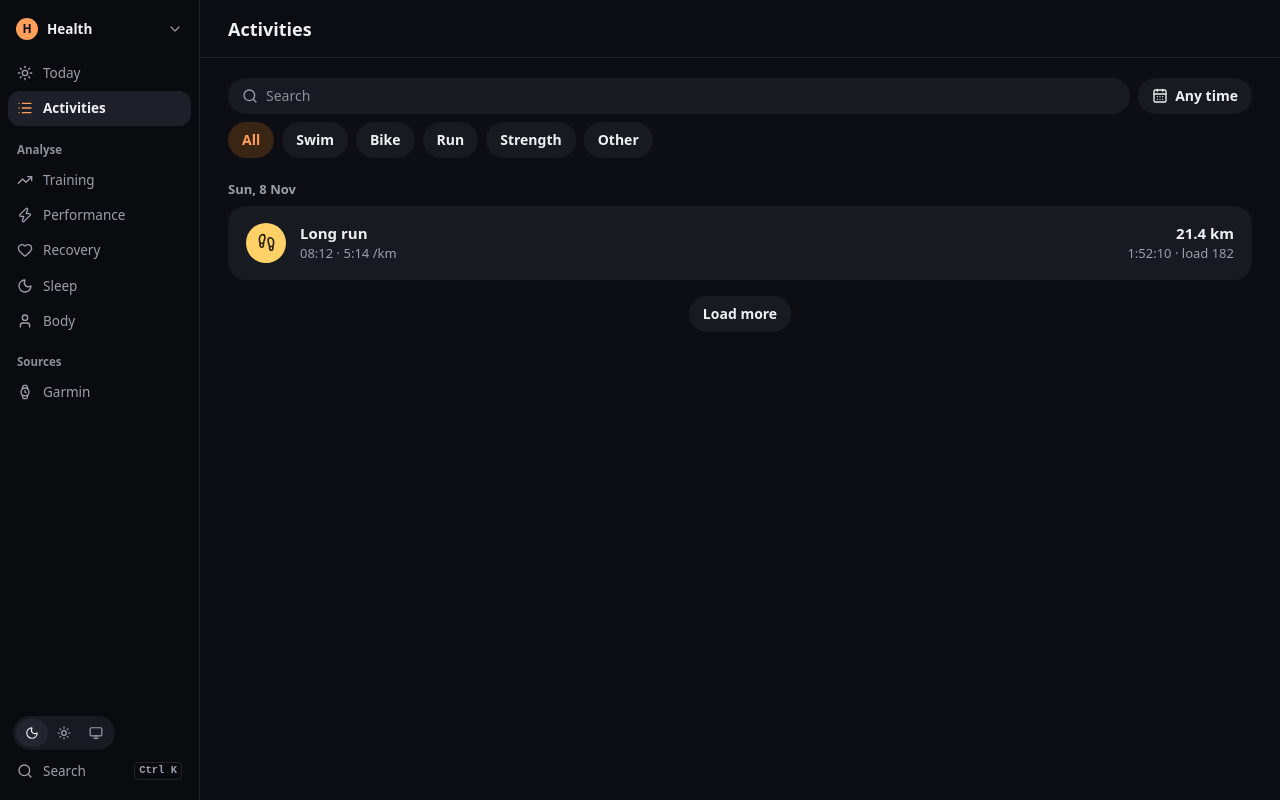
Test case: loads the next page with the cursor
The image size is (1280, 800).
Click the button "Load more".
click(740, 314)  # box [689,296,791,332]
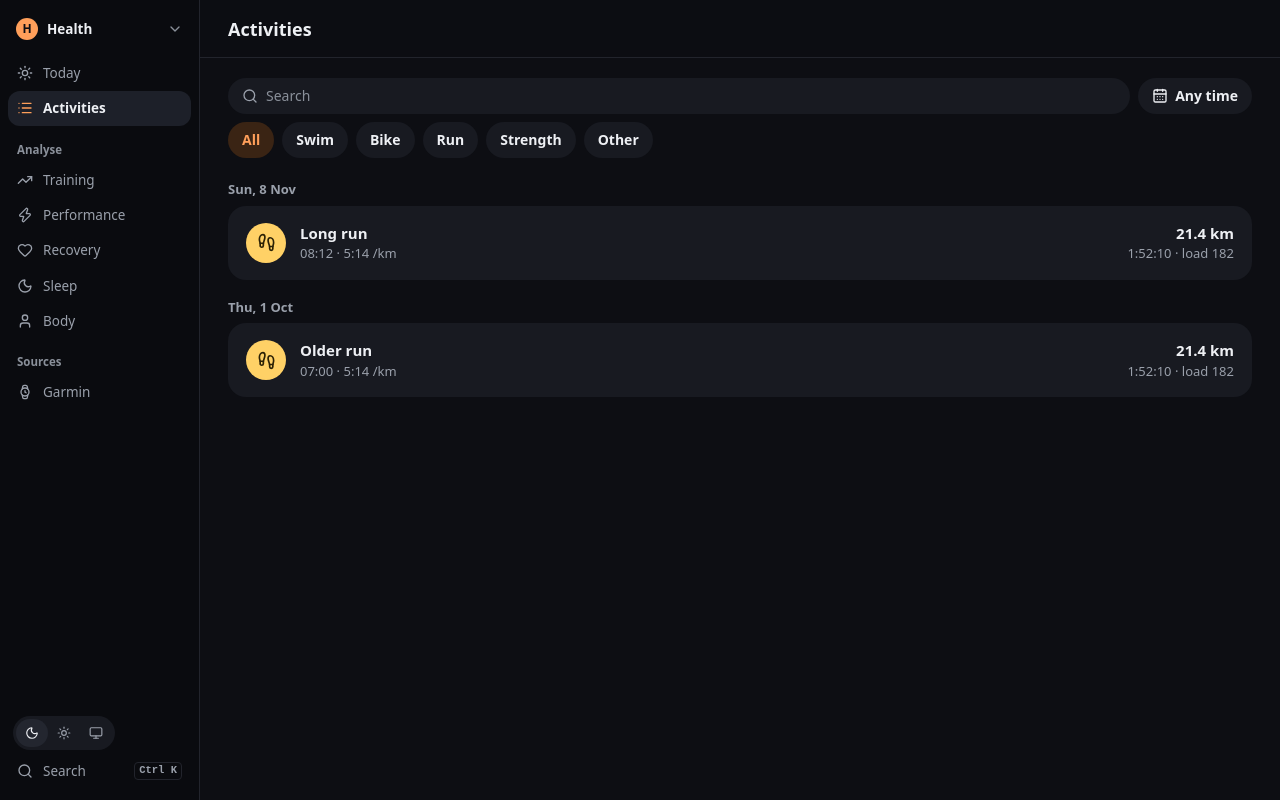
Now the text "Older run" is shown, box [300,340,372,360]
Now the button "Load more" is gone
